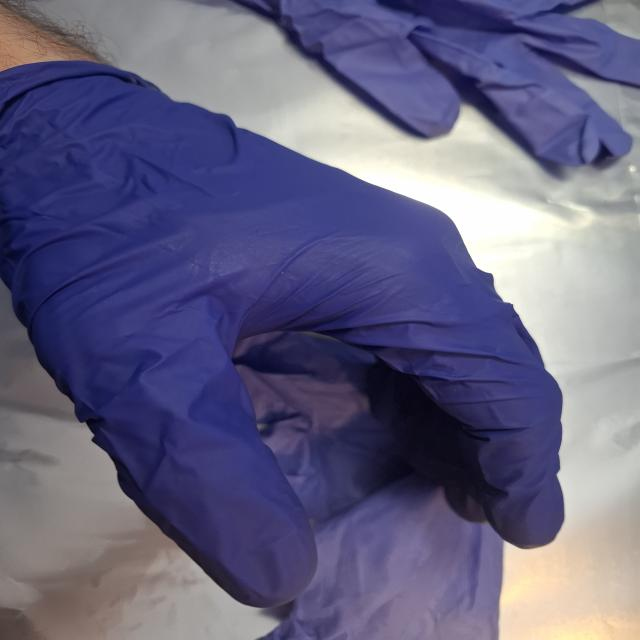glove_on: (0, 54, 570, 610)
